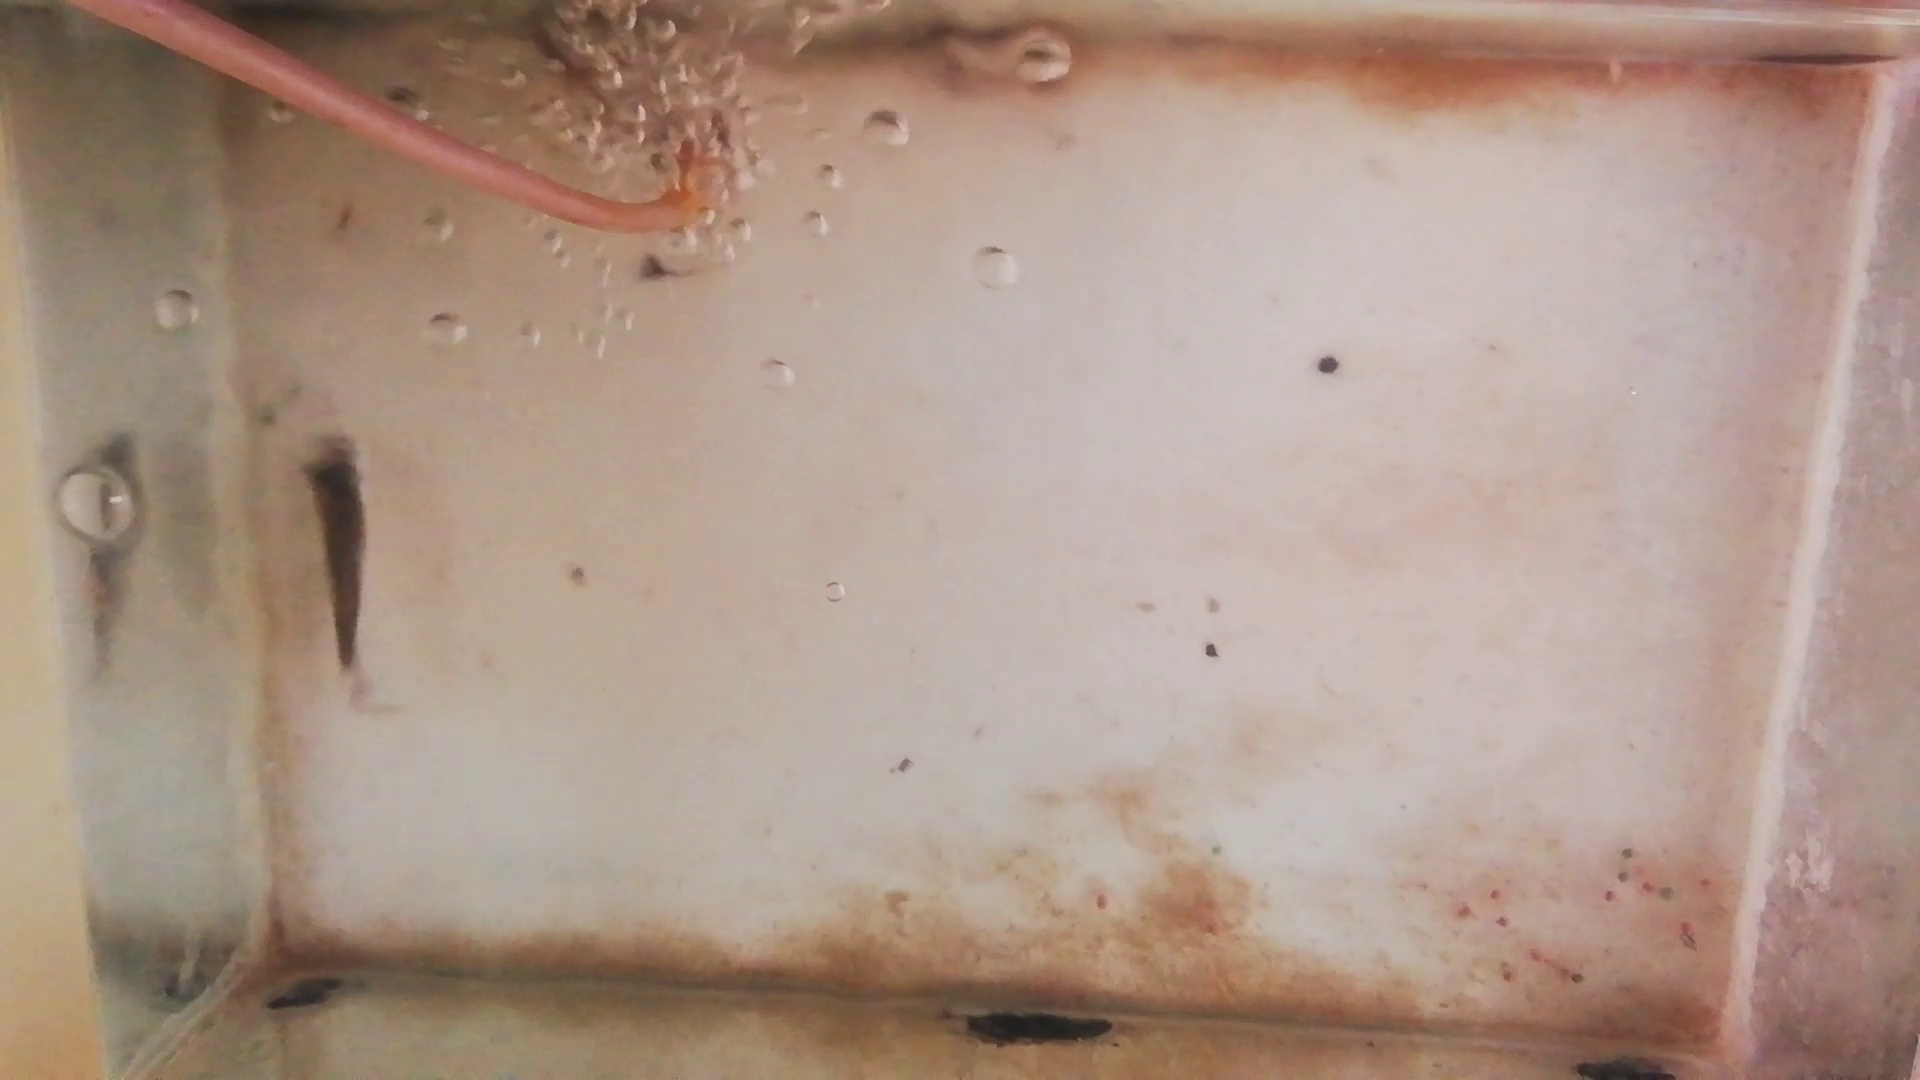fish: (307, 435, 369, 671), (535, 11, 634, 135)
